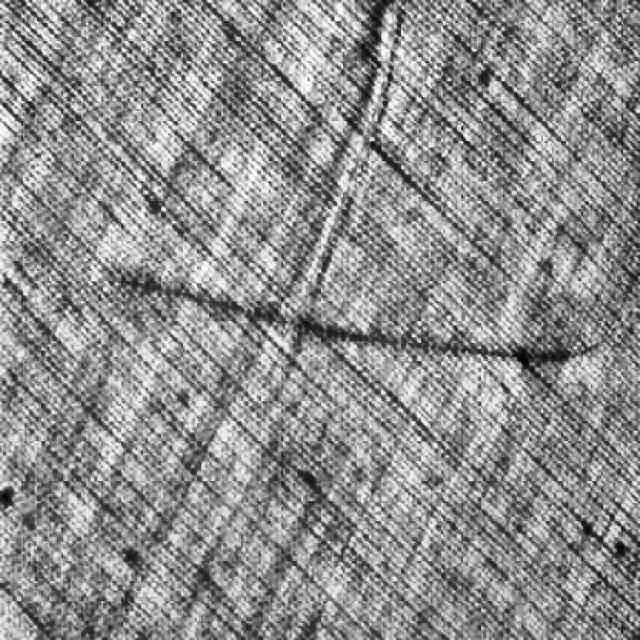thread_error: (256, 0, 414, 401), (100, 258, 617, 375)
